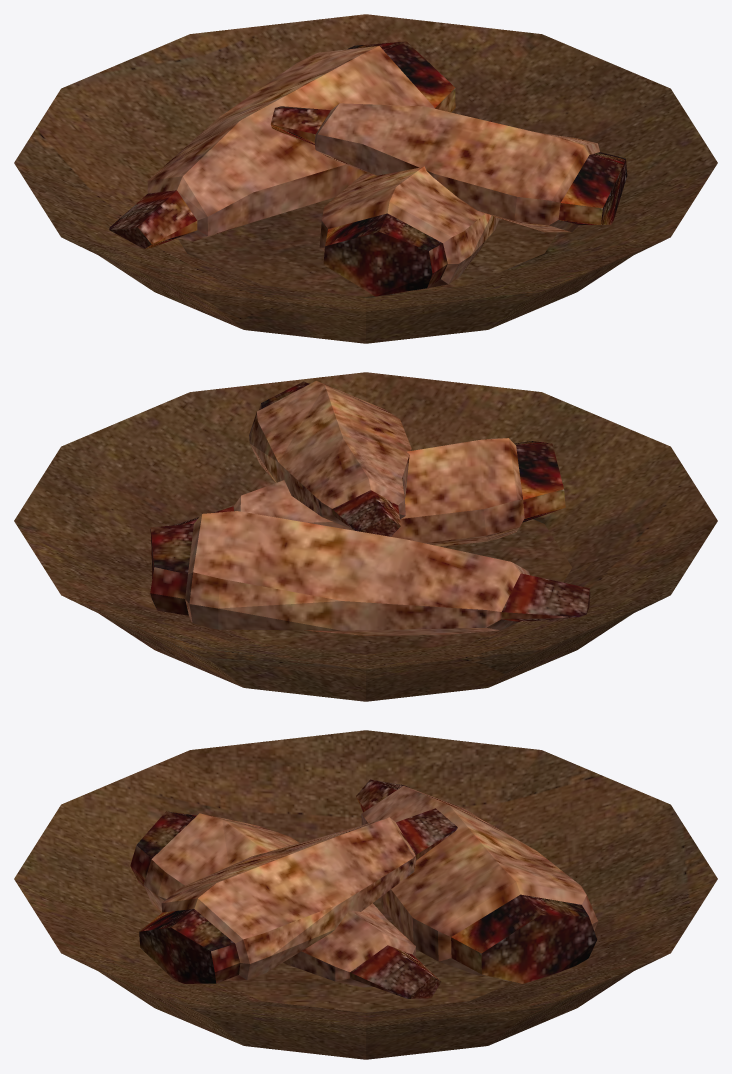
Rendered from ITFO_BEERFISH.glb.
3 renders of one model, top to bottom at view 1: azimuth 30°, elevation 25°; view 2: azimuth 150°, elevation 25°; view 3: azimuth 270°, elevation 25°, orthographic.
Visible parts, largest first — view 1: ITFO_BEERFISH; view 2: ITFO_BEERFISH; view 3: ITFO_BEERFISH.
Boxes of the visible parts, x1,y1,x2,y2 form: ITFO_BEERFISH: [14, 14, 717, 343]; ITFO_BEERFISH: [14, 372, 717, 701]; ITFO_BEERFISH: [14, 730, 717, 1059].
Size of the model in its own units: 0.3559 by 0.0767 by 0.3559.
Materials: 2 (2 with a texture image).
